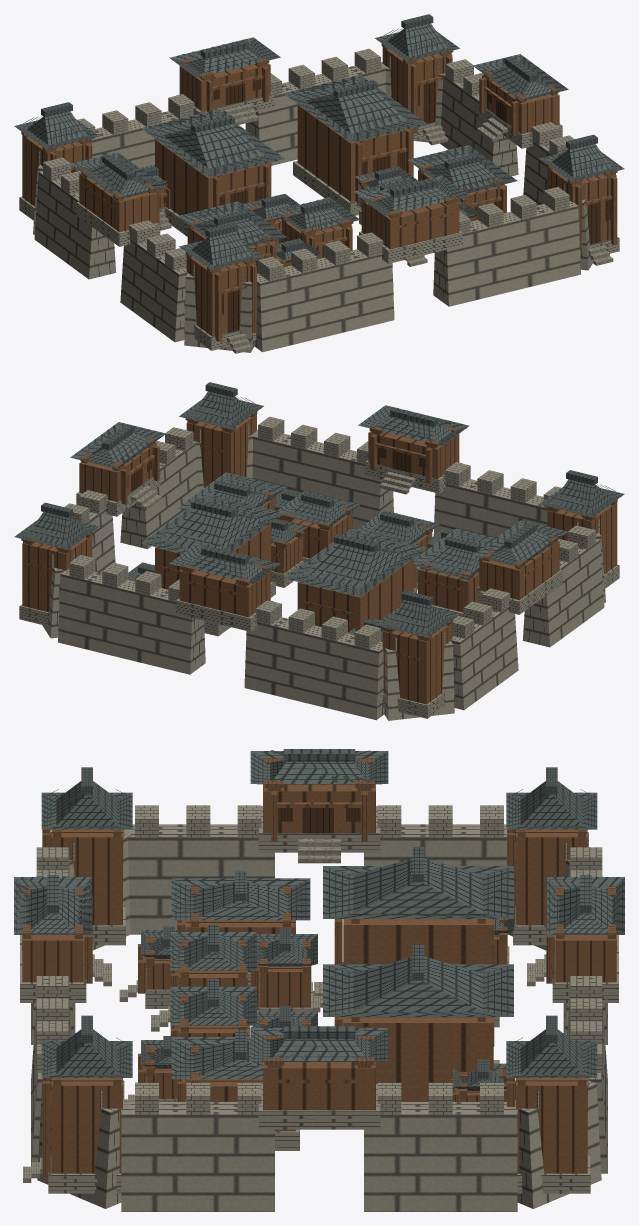
Rendered from city1-lod0.glb.
3 renders of one model, top to bottom at view 1: azimuth 30°, elevation 25°; view 2: azimuth 150°, elevation 25°; view 3: azimuth 270°, elevation 25°, orthographic. The views are drawn at different scales.
Size of the model in its own units: 2.15 by 0.561 by 1.79.
1 material, 1 textured.
